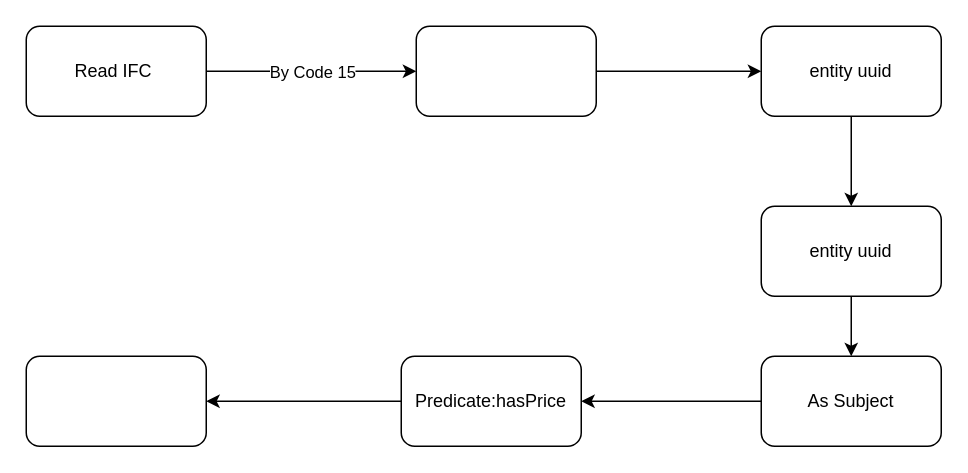
This 968x473 diagram has some shape labels left out. Here are the shapes that lost their labels. From the top down, the centre of each, then its label:
(x=505, y=70): IFC entity
(x=115, y=400): Price Date URI as Object
